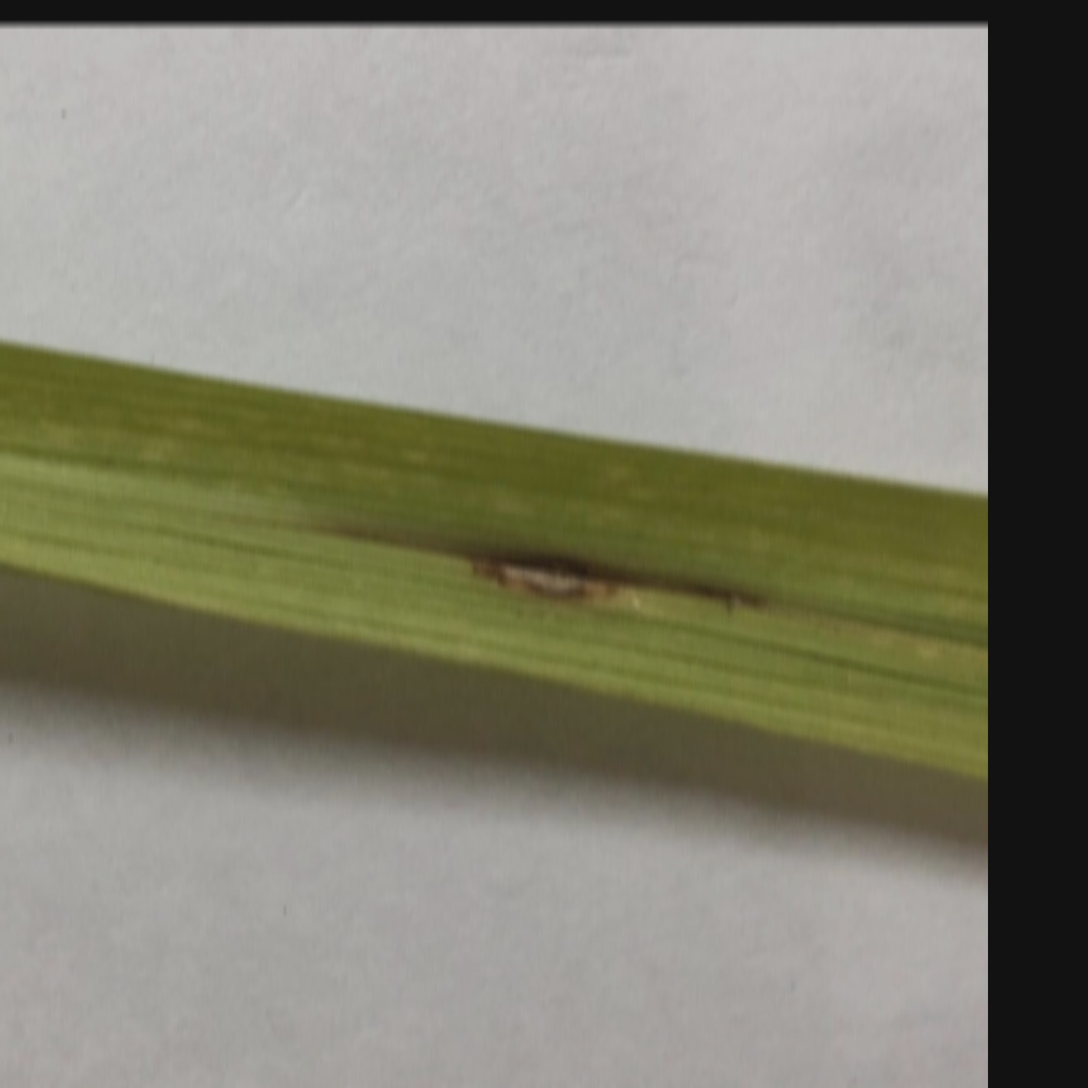Brown_Spot: (408, 437, 686, 650)
